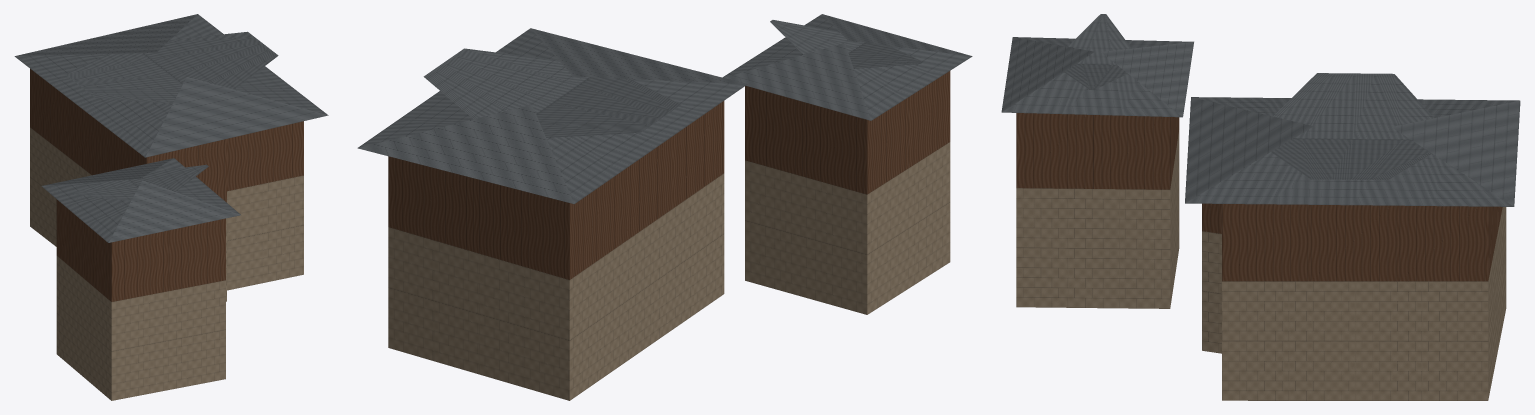
Rendered from bld_c7_36_505.gltf.
3 views of the same model, side by side, from view 1: azimuth 30°, elevation 25°; view 2: azimuth 150°, elevation 25°; view 3: azimuth 270°, elevation 25° (orthographic). The views are drawn at different scales.
Visible parts, largest first — view 1: bld_c7_36_505; view 2: bld_c7_36_505; view 3: bld_c7_36_505.
Boxes of the visible parts, left/top/right/bottom form: bld_c7_36_505: left=14, top=14, right=328, bottom=400; bld_c7_36_505: left=357, top=14, right=972, bottom=400; bld_c7_36_505: left=1001, top=14, right=1520, bottom=400.
Bounding box in the file's own units: 14.81 × 9.1 × 18.56.
Materials: 3 (3 with a texture image).
